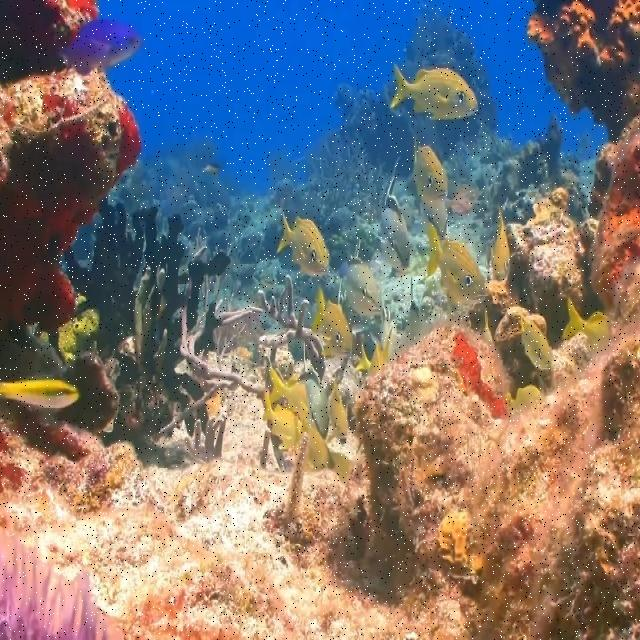aquatic plants: (0, 530, 124, 638)
fish: (365, 162, 412, 275), (388, 64, 478, 121), (428, 222, 487, 308), (66, 21, 145, 74), (277, 213, 329, 276), (268, 361, 312, 427), (312, 286, 351, 358), (562, 296, 612, 350), (1, 378, 78, 407), (263, 395, 301, 452), (345, 259, 382, 315), (302, 368, 331, 435), (413, 147, 448, 202), (523, 321, 552, 371), (493, 205, 512, 280), (327, 386, 348, 443), (305, 430, 330, 472), (420, 203, 449, 238)
reefs: (70, 194, 230, 403), (157, 273, 325, 458)
sea-floor: (0, 0, 639, 639), (1, 1, 142, 330)
